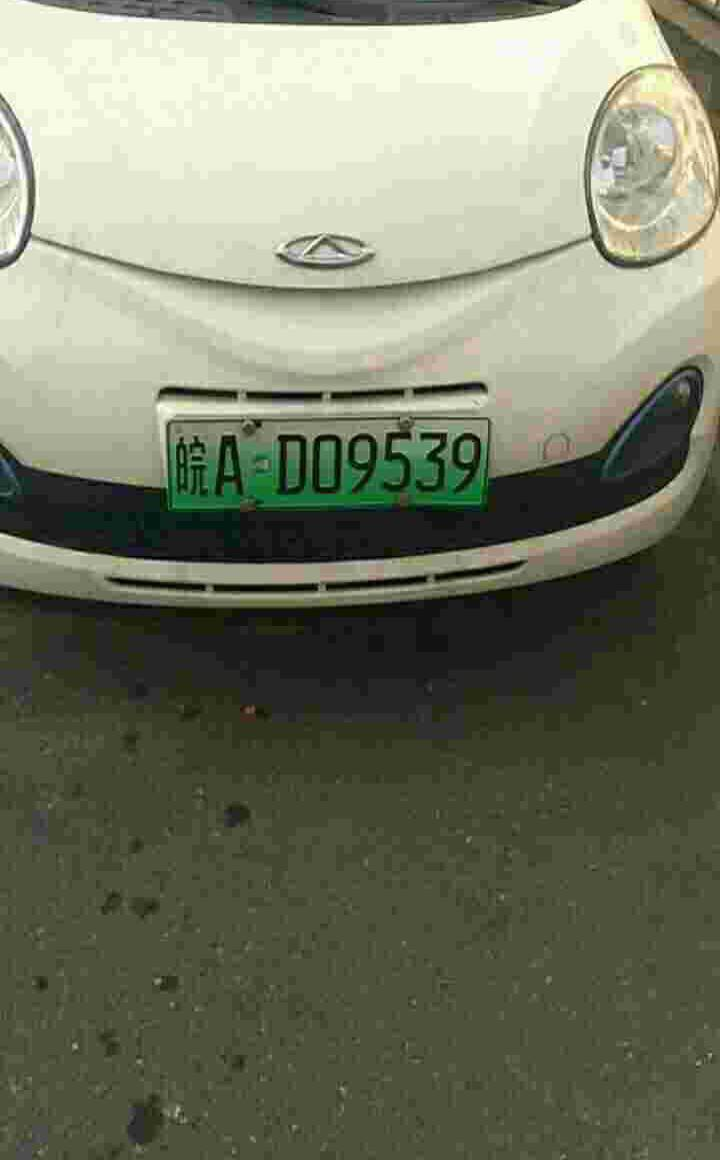car: (160, 418, 507, 519)
